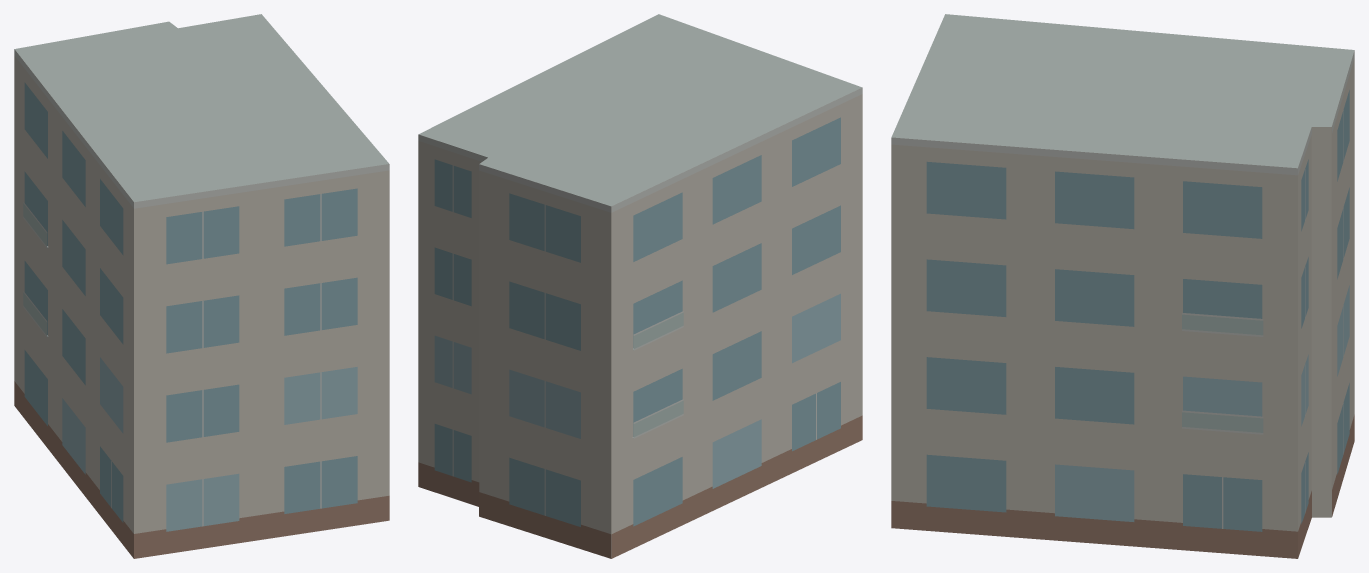
The model's file is survey-upis-32959990.glb.
The picture shows the model from 3 angles, left to right: view 1: azimuth 30°, elevation 25°; view 2: azimuth 150°, elevation 25°; view 3: azimuth 270°, elevation 25°; orthographic projection. The views are drawn at different scales.
Parts seen in each view (by area): view 1: survey-upis-32959990.tmp; view 2: survey-upis-32959990.tmp; view 3: survey-upis-32959990.tmp.
Part boxes in pixels (<box>): survey-upis-32959990.tmp: <box>14,14,389,558</box>; survey-upis-32959990.tmp: <box>418,14,862,558</box>; survey-upis-32959990.tmp: <box>891,14,1354,558</box>.
Bounding box in the file's own units: 11.36 × 13.4 × 14.41.
